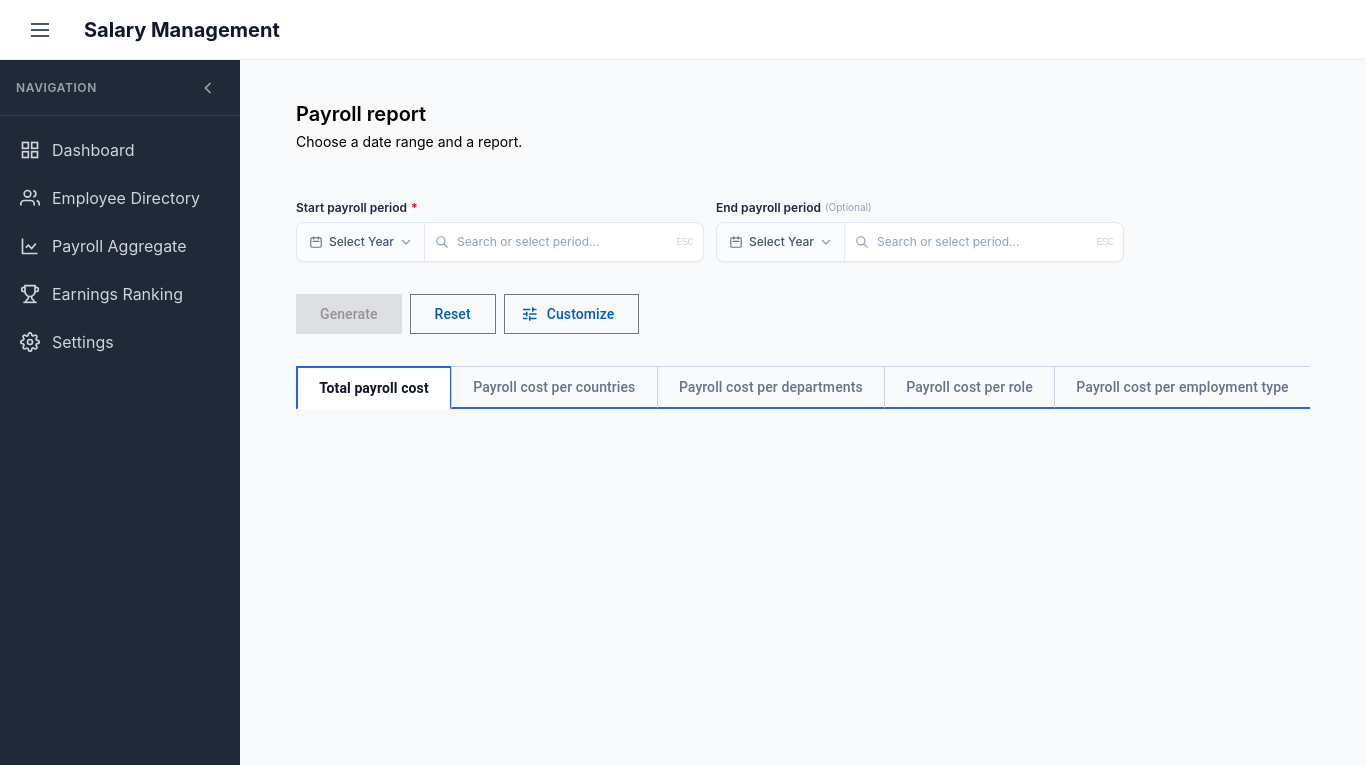
Scenario: Aggregate Report Page › should generate a report and render all 5 toggle views correctly
Click the button "Select Year" below "Start payroll period": (361, 242) left=297, top=223, right=425, bottom=261
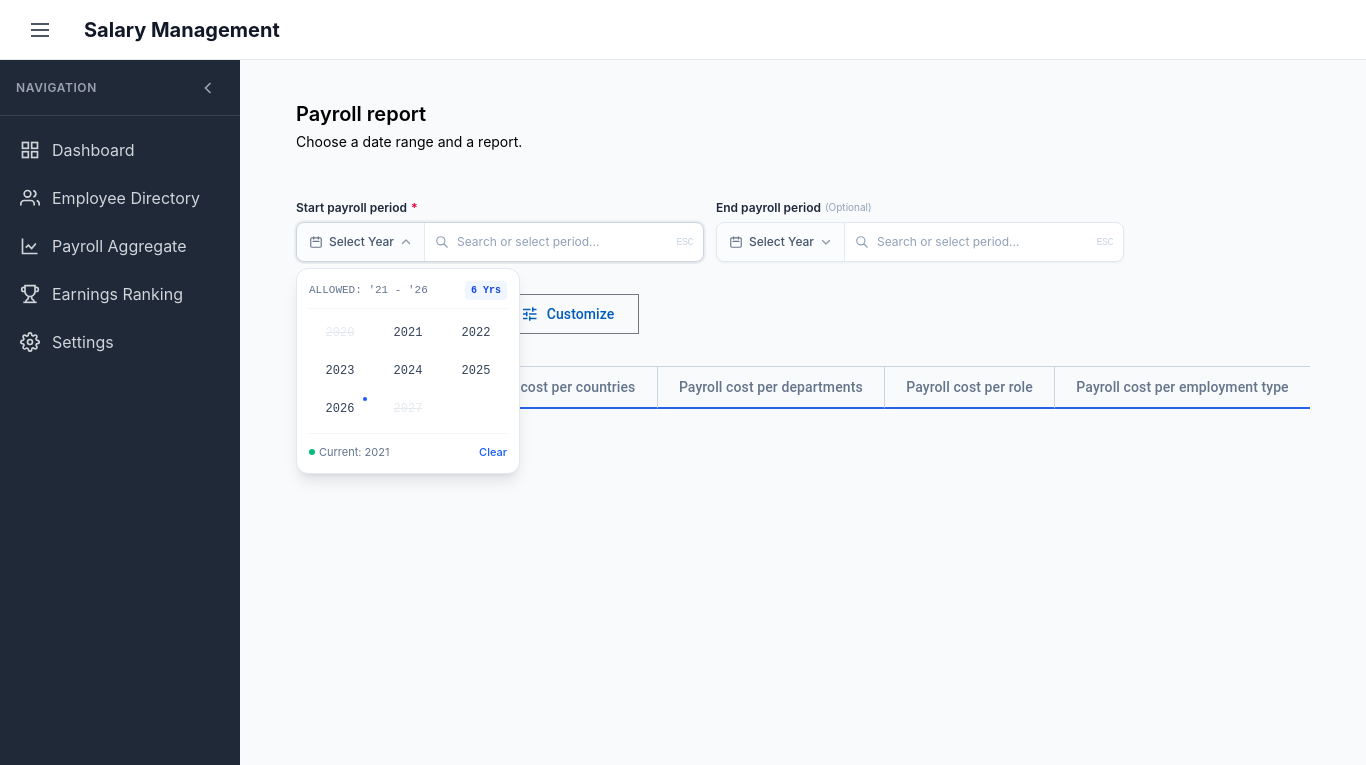
Result: the button with test id "period-picker-year-2026" is shown
Click the button with test id "period-picker-year-2026": (340, 409) left=309, top=393, right=371, bottom=425
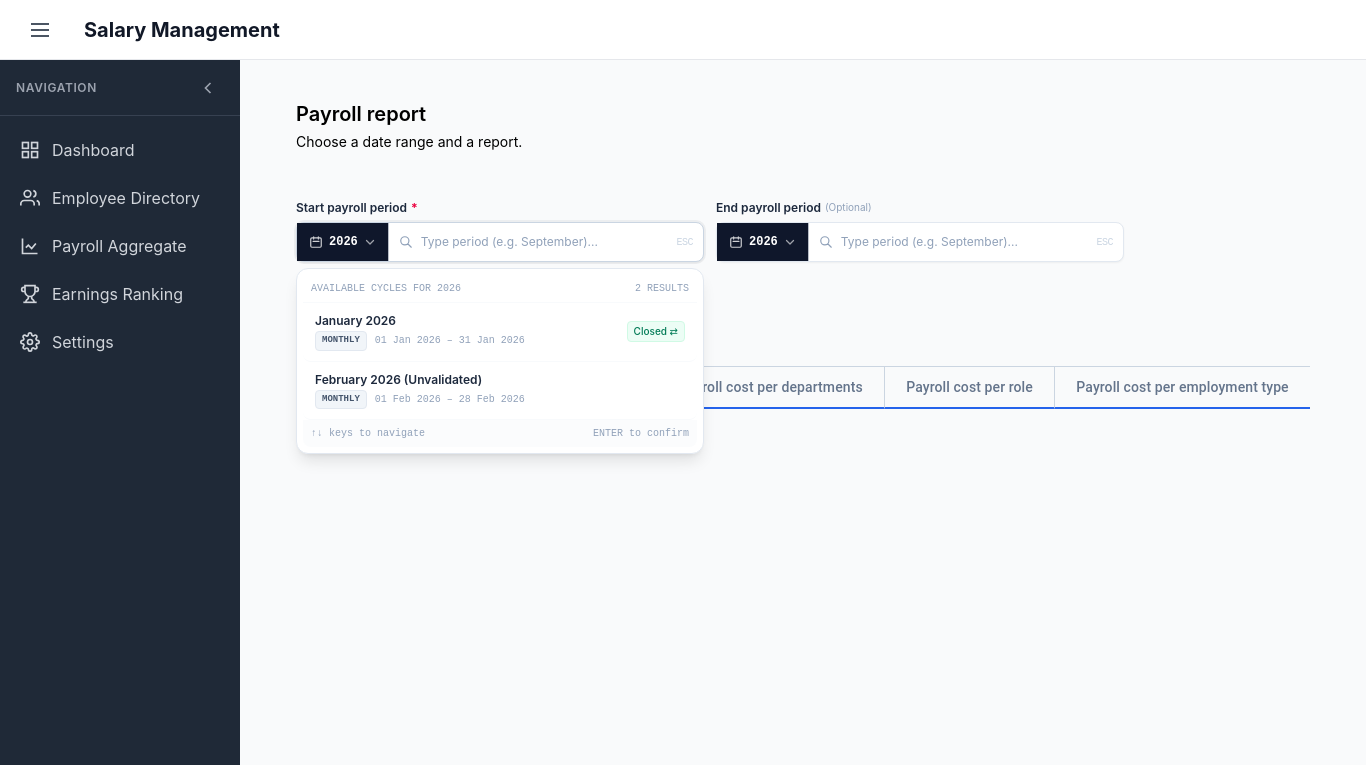
Click the button "January 2026 MONTHLY 01 Jan 2026 – 31 Jan 2026 Closed ⇄": (500, 333) left=303, top=303, right=697, bottom=362
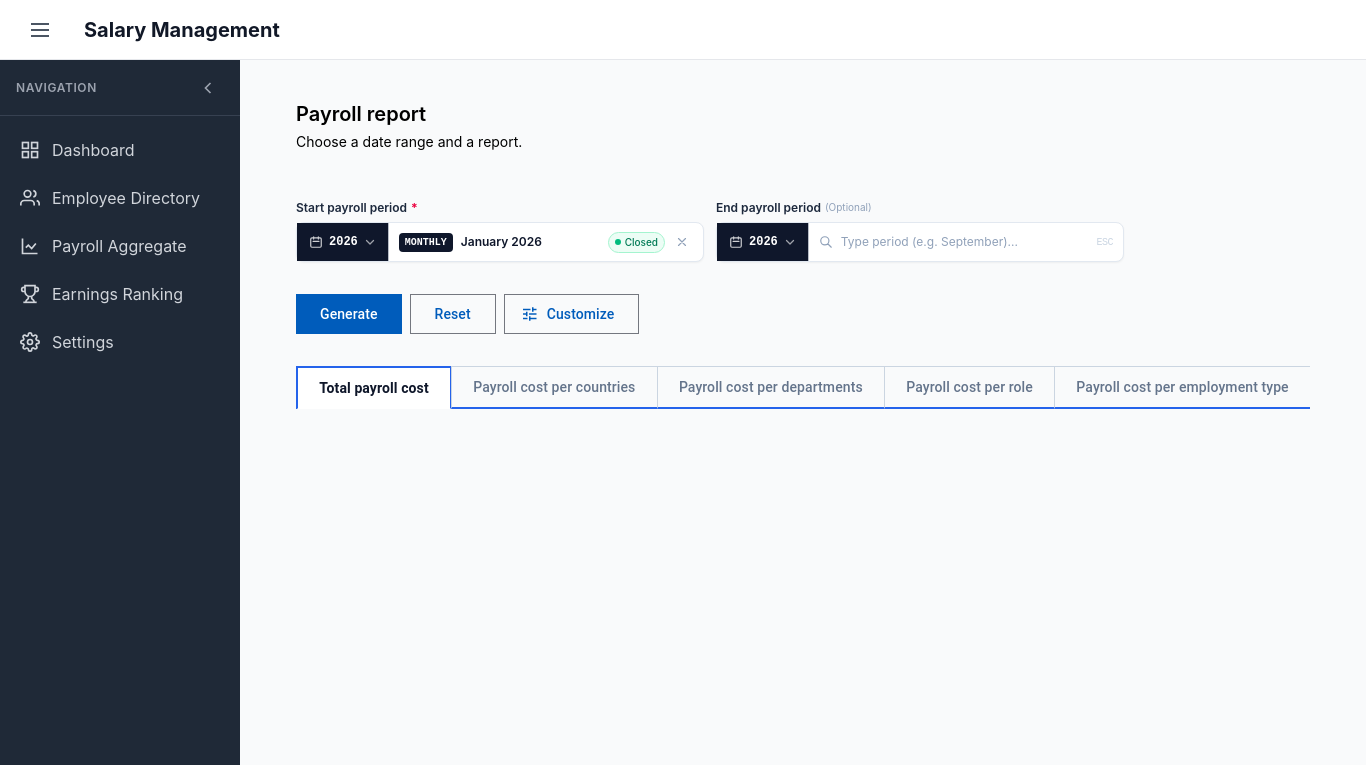
Click the button with test id "btn-generate": (349, 314) left=296, top=294, right=402, bottom=334
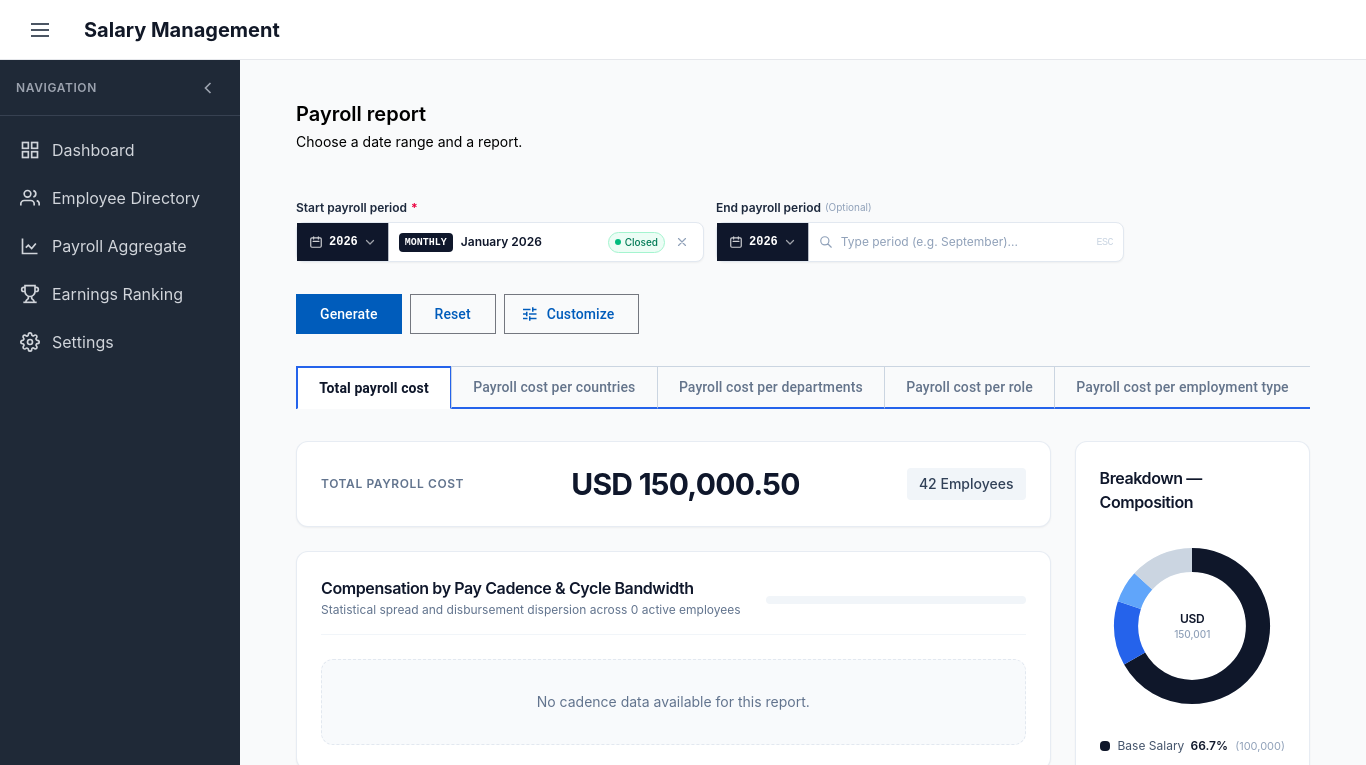
Result: the text "USD 150,000.50" is shown at left=571, top=466, right=800, bottom=502
Result: the text "42 Employees" is shown at left=907, top=468, right=1026, bottom=500
Click the button with test id "toggle-btn-COUNTRY": (555, 388) left=451, top=366, right=658, bottom=409
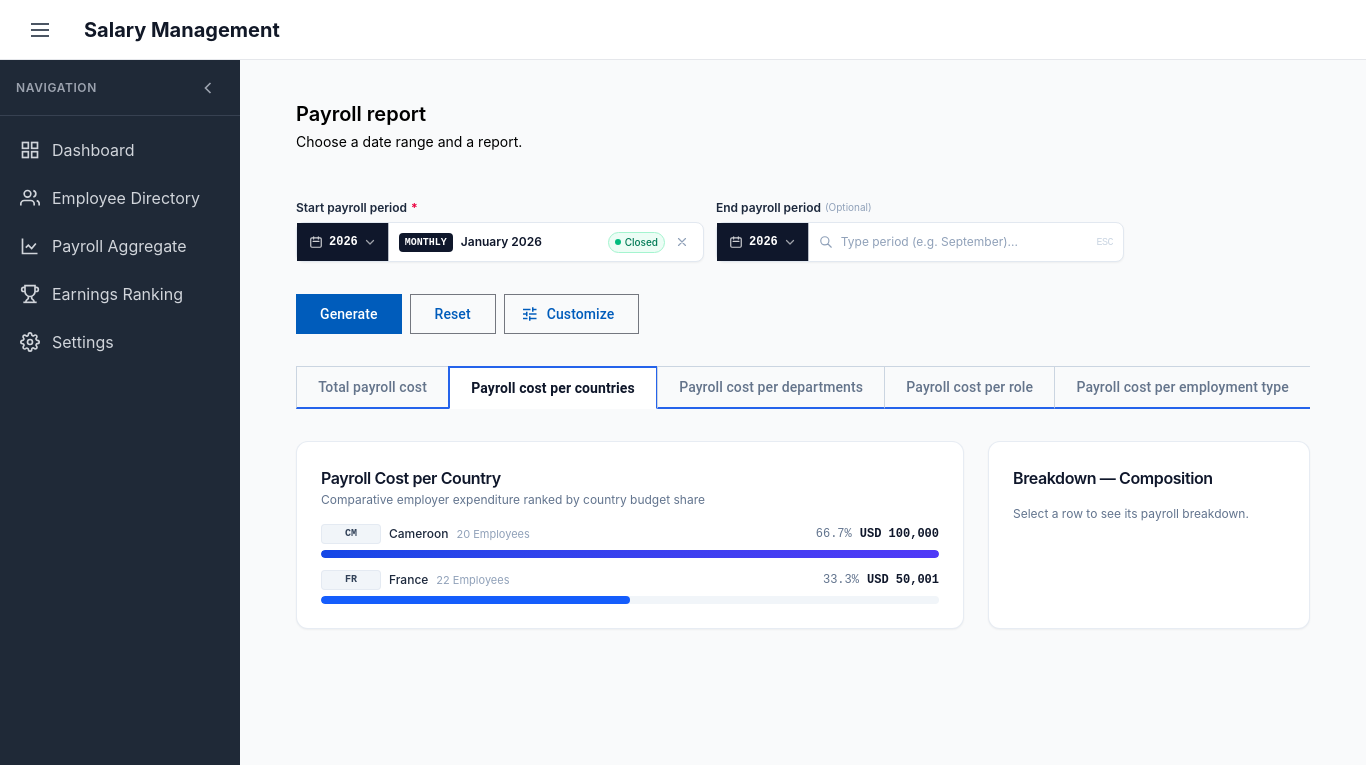
Result: the heading with test id "aggregate-results-title" reads "Payroll Cost per Country" at left=321, top=468, right=501, bottom=488
Result: the button with test id "tiered-bar-row-CM" is shown
Result: the button with test id "tiered-bar-row-FR" is shown at left=321, top=570, right=939, bottom=604
Click the button with test id "tiered-bar-row-CM": (351, 534) left=321, top=524, right=939, bottom=558
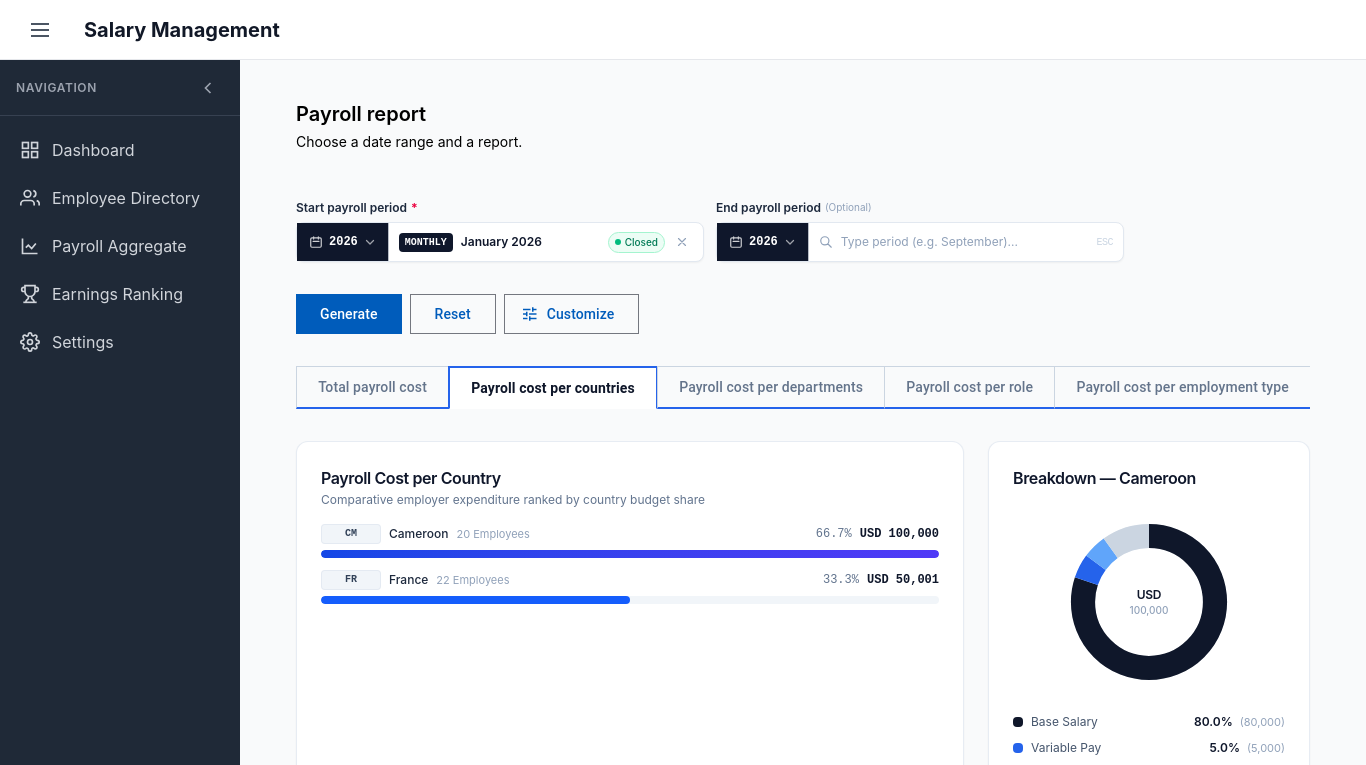
Result: the heading with test id "donut-title" shows "Cameroon" at left=1013, top=468, right=1196, bottom=488
